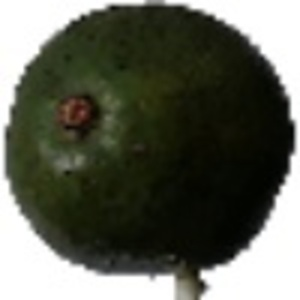abacate: (4, 4, 296, 271)
